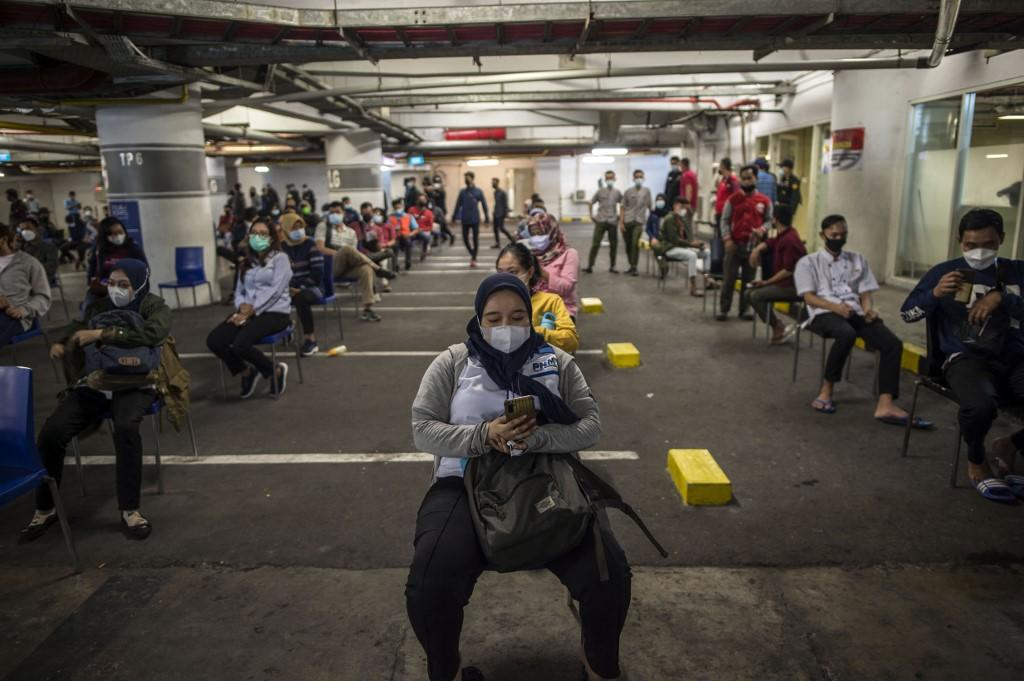mask_weared_incorrect: (742, 167, 757, 192)
with_mask: (479, 300, 529, 354), (961, 231, 997, 271), (107, 270, 133, 308), (826, 221, 853, 251), (528, 220, 551, 252), (248, 225, 269, 253), (286, 220, 310, 241), (329, 204, 344, 223), (603, 171, 615, 186), (633, 170, 642, 187)
